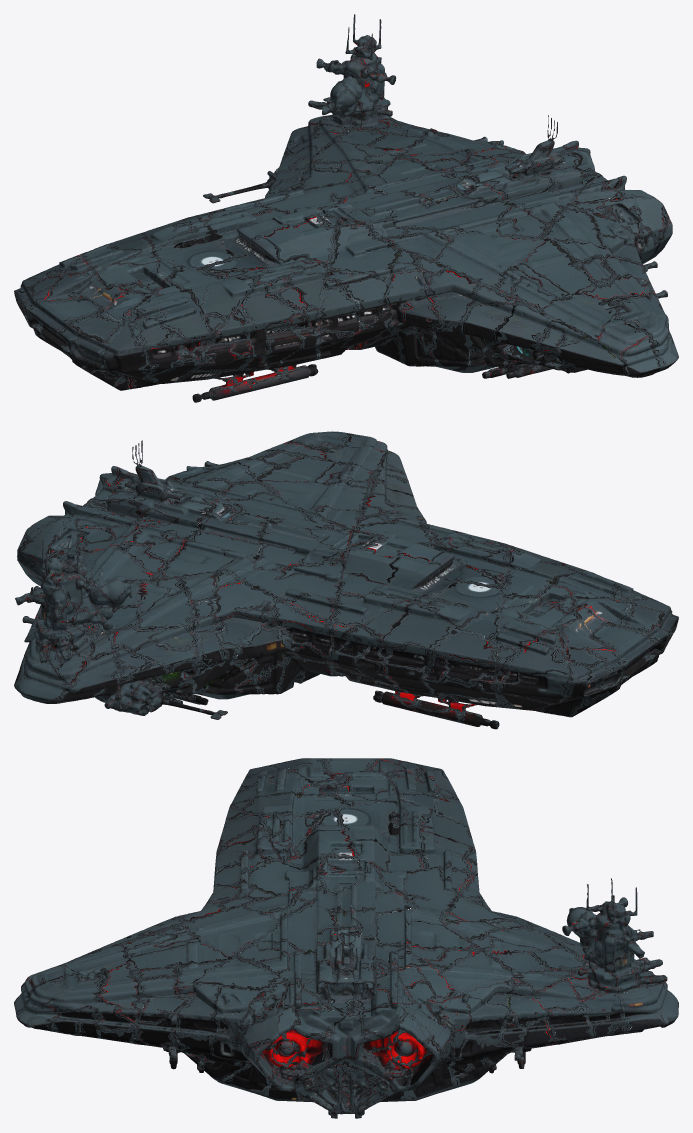
File: HumanSpaceBattleShip_lod0.glb
3 renders of one model, top to bottom at view 1: azimuth 30°, elevation 25°; view 2: azimuth 150°, elevation 25°; view 3: azimuth 270°, elevation 25°, orthographic.
Parts seen in each view (by area): view 1: mesh; view 2: mesh; view 3: mesh.
Boxes of the visible parts, <box> form: mesh: <box>14,14,678,402</box>; mesh: <box>14,431,678,729</box>; mesh: <box>14,758,678,1118</box>.
Bounding box in the file's own units: 1.9 × 0.6418 × 1.88.
Materials: 1 (1 with a texture image).
